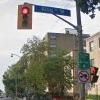Tree: (6, 37, 75, 100)
